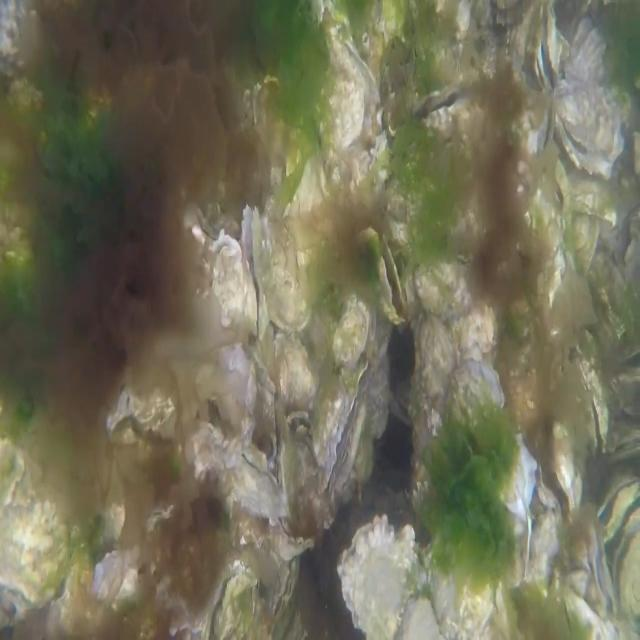Oyster-Closed: (420, 517, 516, 640), (312, 362, 369, 501), (215, 446, 291, 527), (270, 512, 316, 564)
Oyster-Indeterminate: (441, 362, 538, 520), (0, 434, 72, 618), (336, 516, 415, 640), (310, 0, 367, 164), (284, 124, 337, 262), (412, 316, 456, 470), (263, 192, 310, 336), (330, 295, 391, 378), (412, 257, 482, 321), (272, 330, 320, 421), (554, 158, 615, 228), (562, 210, 600, 284), (94, 550, 138, 607)
Oyster-Open: (552, 20, 640, 182), (529, 412, 583, 530), (106, 385, 179, 458), (243, 344, 278, 476), (611, 508, 640, 638), (210, 229, 246, 333), (240, 205, 264, 345), (577, 353, 609, 457), (588, 519, 619, 621), (412, 85, 474, 136), (595, 476, 640, 541), (377, 235, 408, 327), (534, 0, 560, 99), (606, 425, 640, 466)
